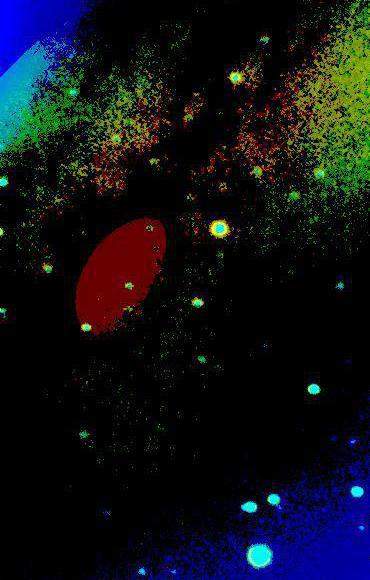star: (224, 325, 254, 355)
